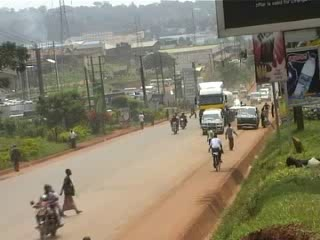Motorcycle: (29, 182, 64, 240), (168, 111, 180, 135), (179, 109, 188, 131)
